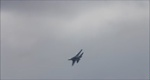maybay_muctieu: (69, 49, 84, 67)
